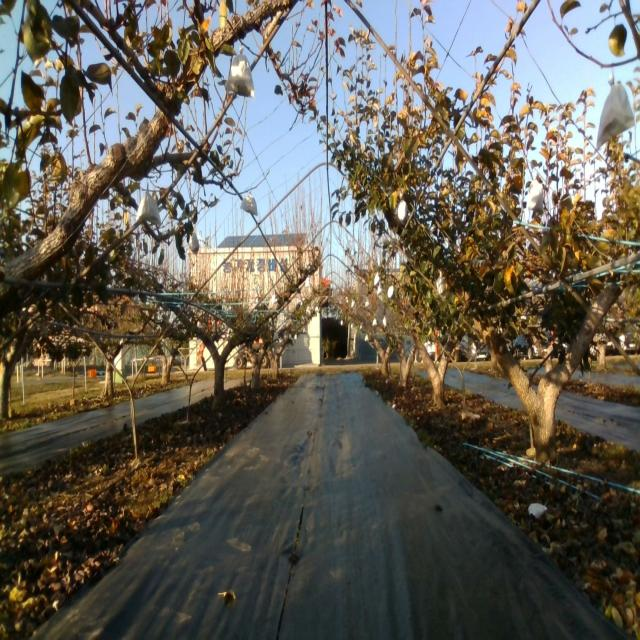pearbags: (594, 86, 636, 148), (225, 50, 254, 104), (136, 190, 162, 225), (526, 180, 544, 212), (240, 190, 257, 216), (396, 199, 408, 226), (188, 228, 199, 257)
